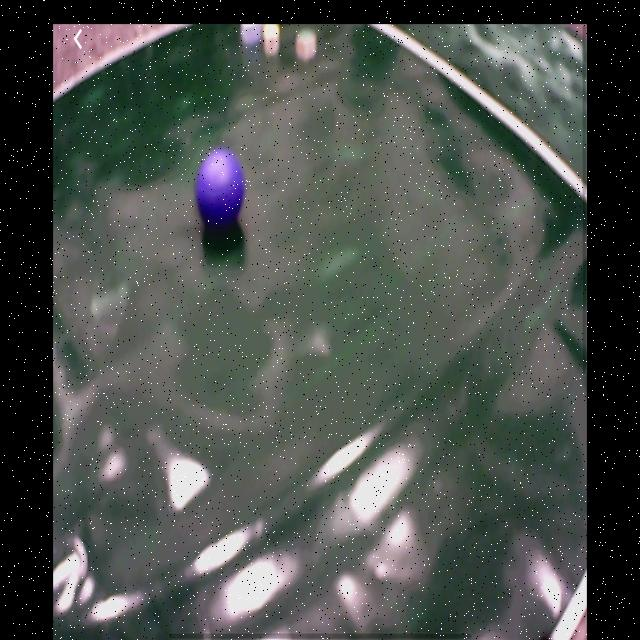ball: (196, 148, 244, 222)
